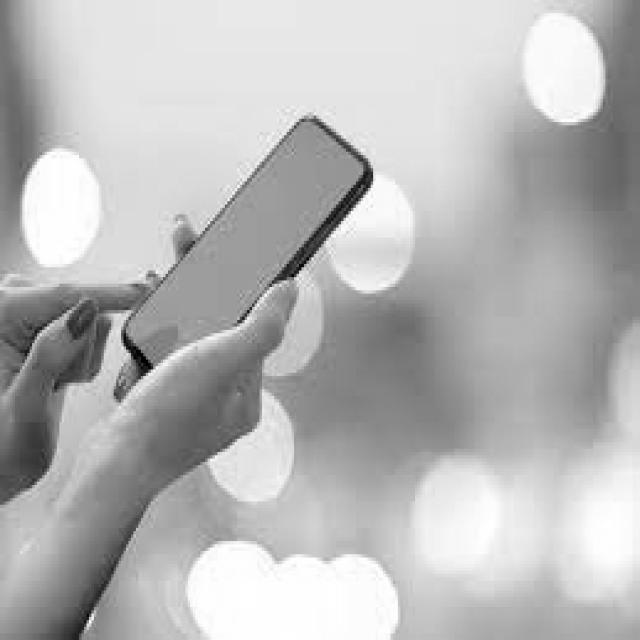No gun_phone: (124, 118, 374, 376)
